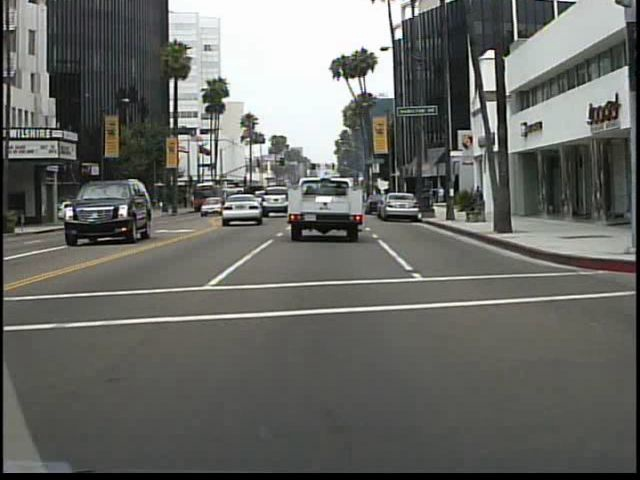person: (469, 182, 486, 216)
